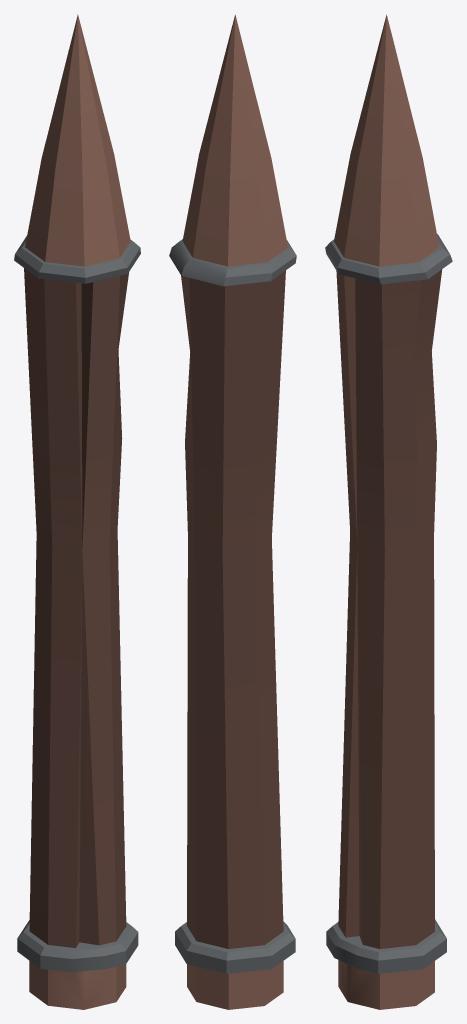
The model's file is SM_Spikes_01.fbx.
The picture shows the model from 3 angles, left to right: view 1: azimuth 30°, elevation 25°; view 2: azimuth 150°, elevation 25°; view 3: azimuth 330°, elevation 25°; orthographic projection.
Visible parts, largest first — view 1: Spikes_01; view 2: Spikes_01; view 3: Spikes_01.
Part boxes in pixels (x1,y1,x2,y2): Spikes_01: (14,14,140,1009); Spikes_01: (169,14,296,1009); Spikes_01: (325,14,452,1009).
Bounding box in the file's own units: 13.8 × 125 × 13.94.
